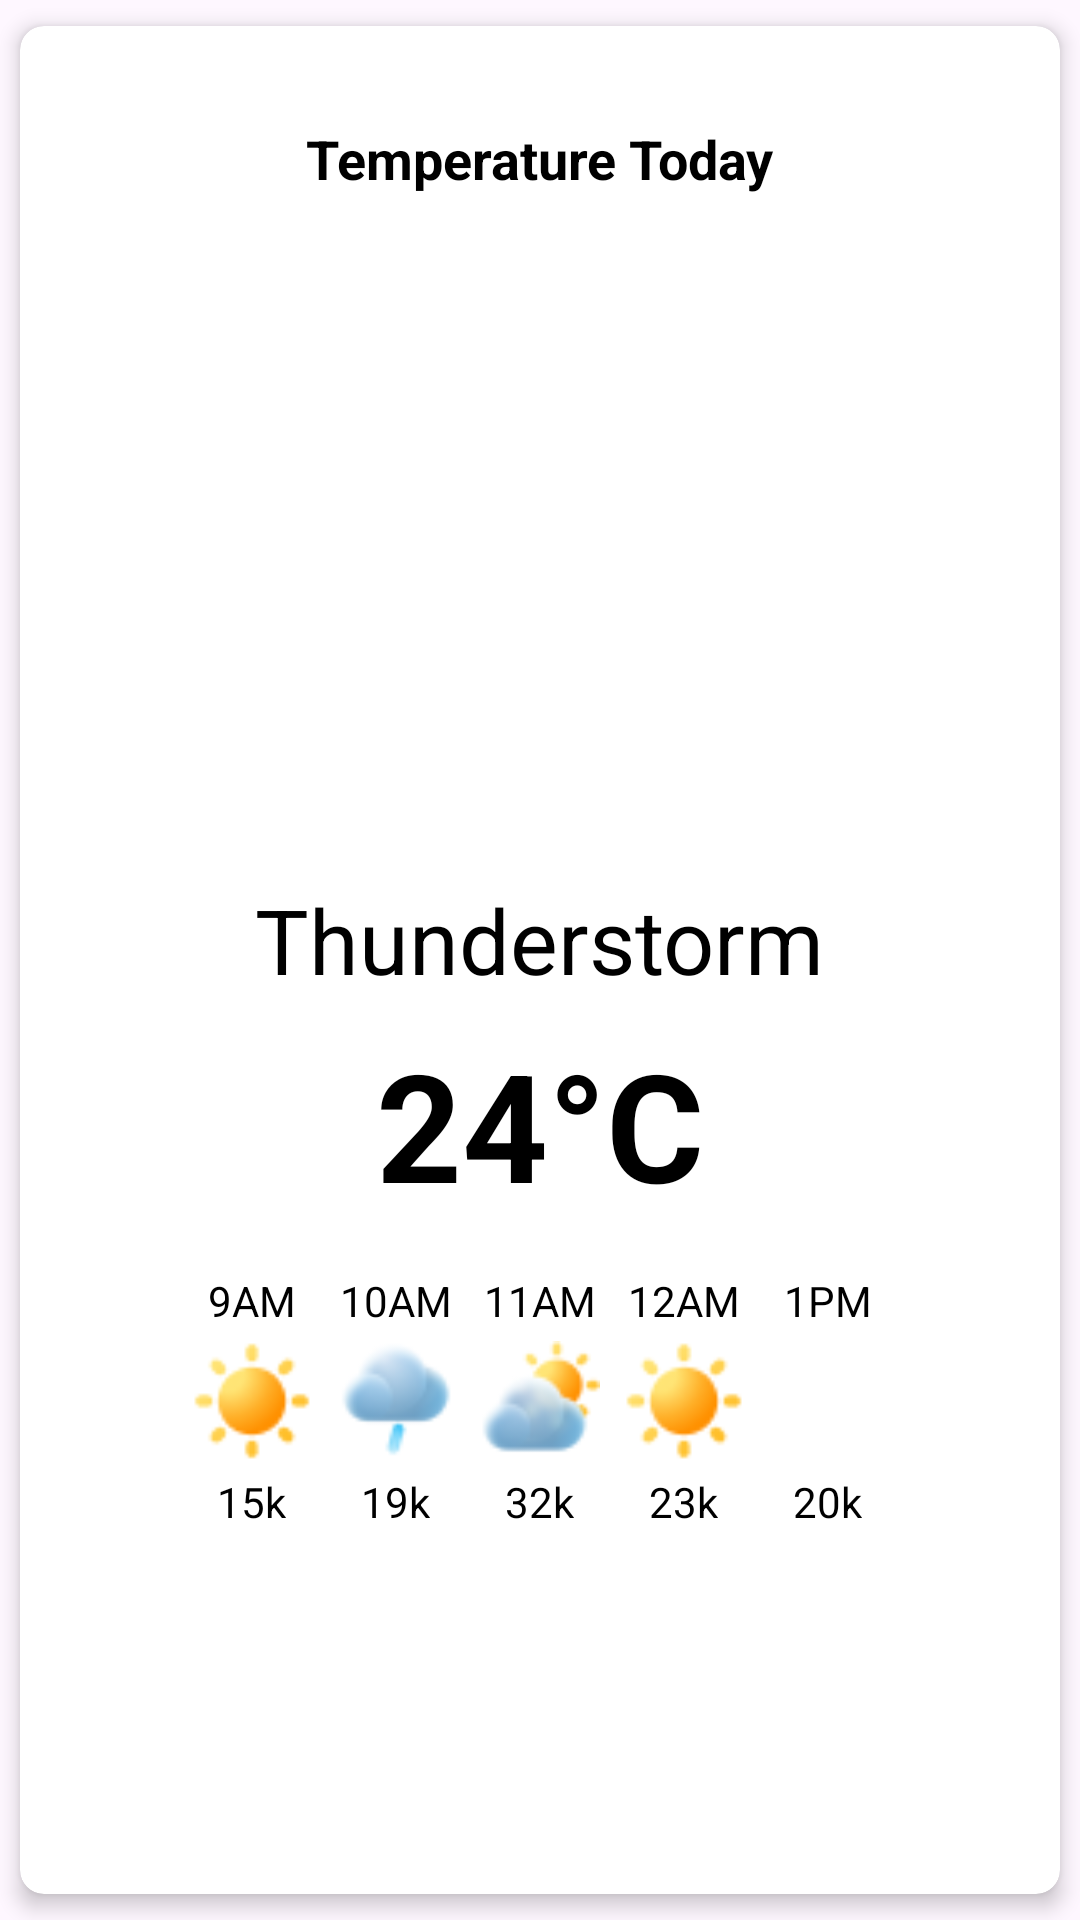

Point at icon controls on the screen. Image size 1080 × 1920, points as [x,y].
rain: [397,1402]
sun cloudy: [542,1396]
sunny: [252,1401], [684,1401]
